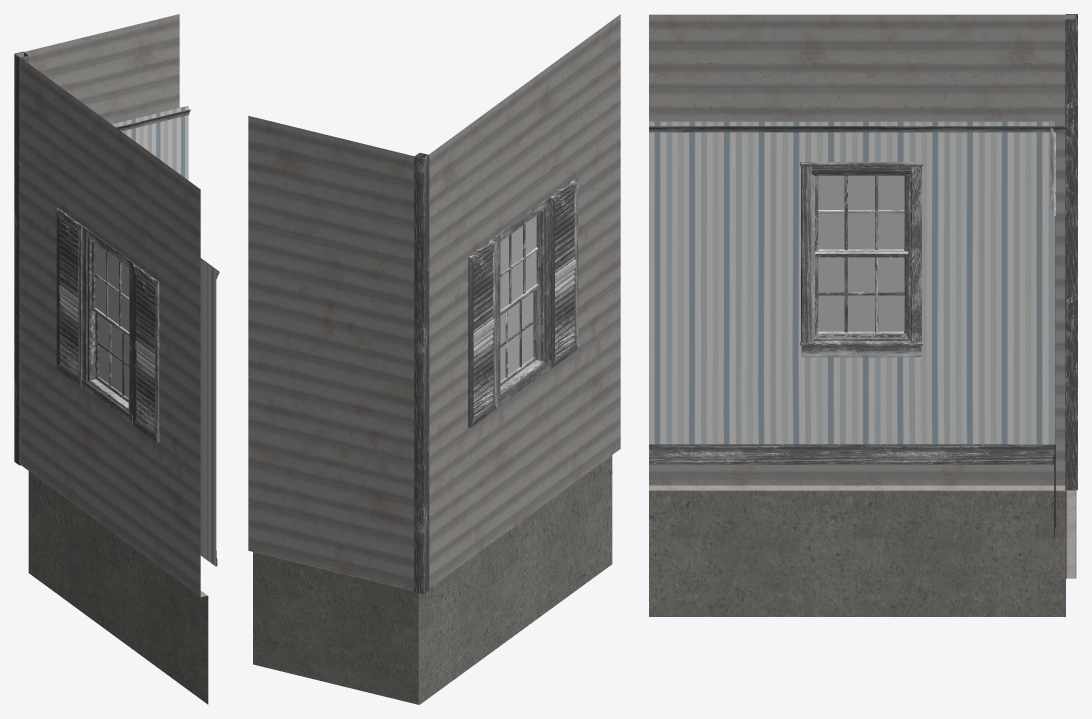
File: SM_Corner_1Floor_A5.fbx
The picture shows the model from 3 angles, left to right: view 1: azimuth 30°, elevation 25°; view 2: azimuth 150°, elevation 25°; view 3: azimuth 270°, elevation 25°; orthographic projection. The views are drawn at different scales.
Visible parts, largest first — view 1: SM_Corner_1Floor_A5_LOD0; view 2: SM_Corner_1Floor_A5_LOD0; view 3: SM_Corner_1Floor_A5_LOD0.
Part boxes in pixels (<box>): SM_Corner_1Floor_A5_LOD0: <box>14,14,219,704</box>; SM_Corner_1Floor_A5_LOD0: <box>248,14,620,704</box>; SM_Corner_1Floor_A5_LOD0: <box>649,14,1077,617</box>.
Bounding box in the file's own units: 149 × 288 × 443.
Materials: 7 (6 with a texture image).
